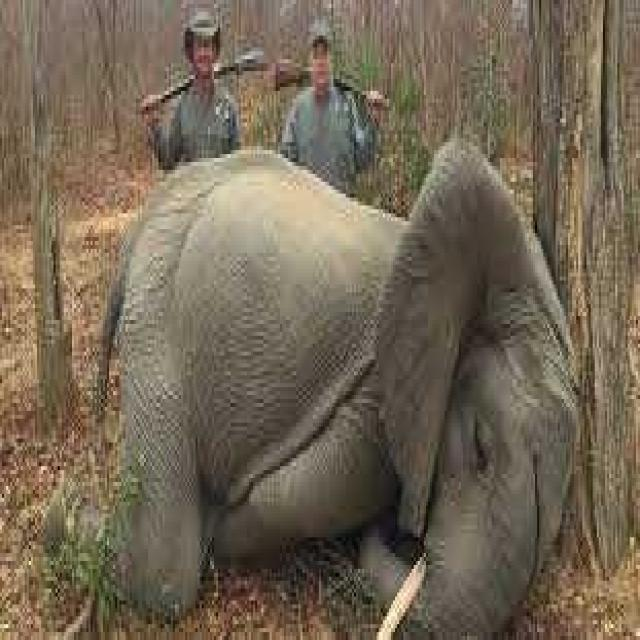Elephant: (88, 130, 582, 636)
person: (277, 23, 378, 194), (144, 8, 241, 170)
